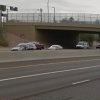Bridge: (14, 8, 92, 41)
